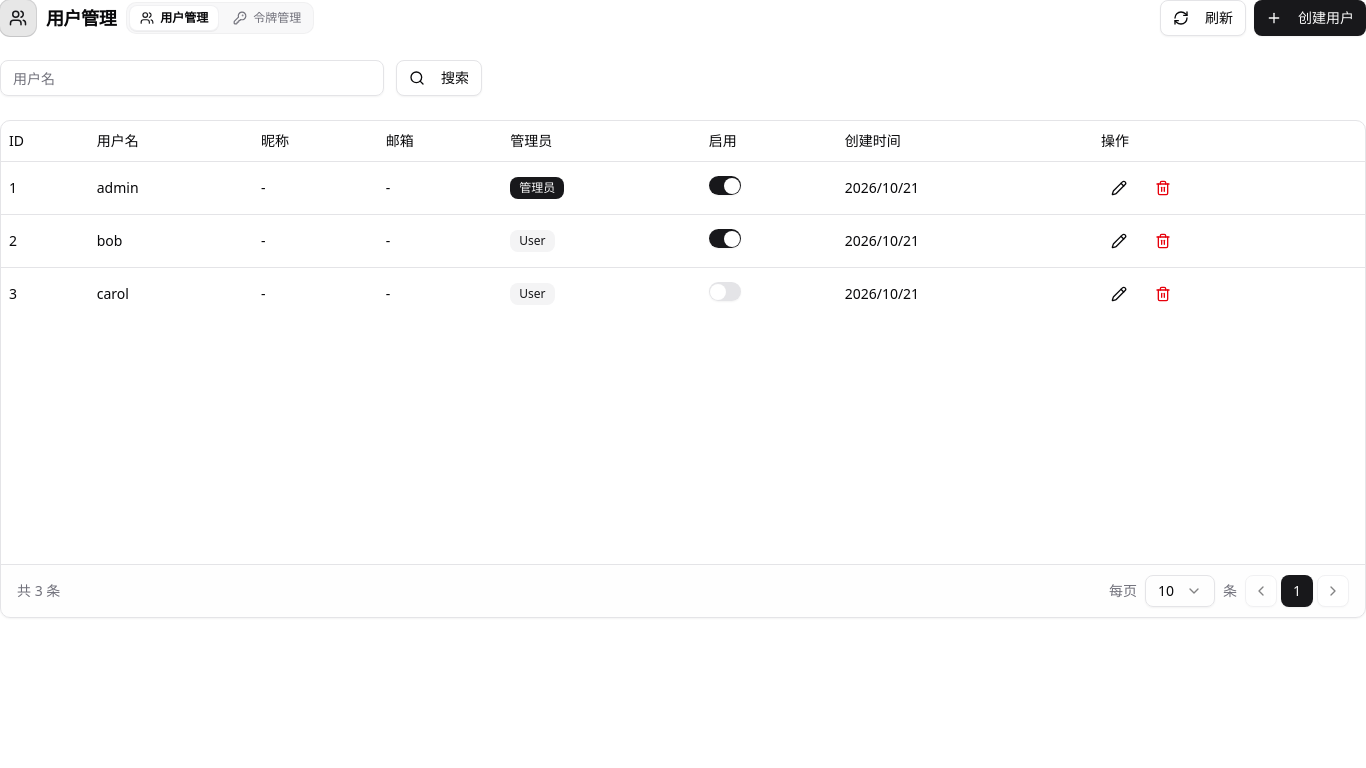
it: UserManagement status switch › 取消确认不提交
Click the switch named "启用 bob" at (725, 239), box [709,229,741,248]
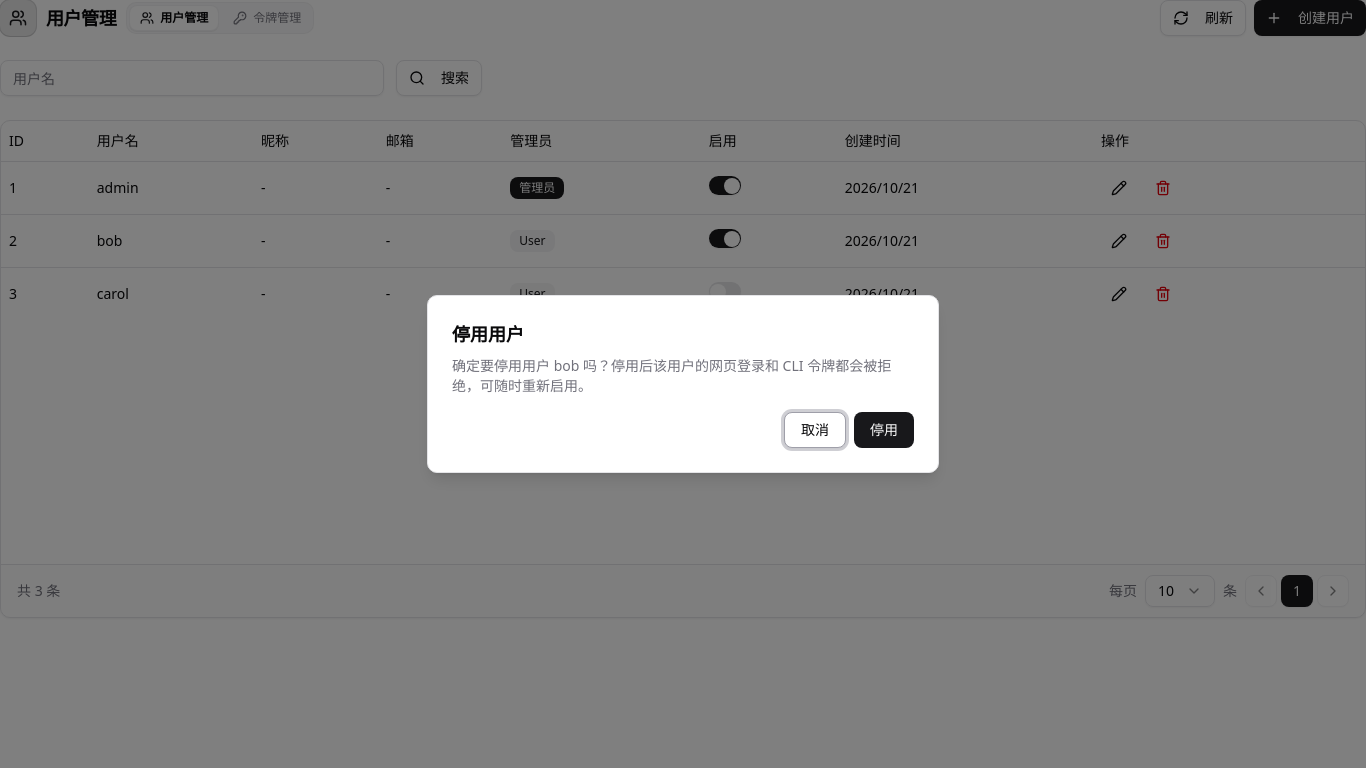
Click the button "取消" at (815, 430), box [784,412,846,448]
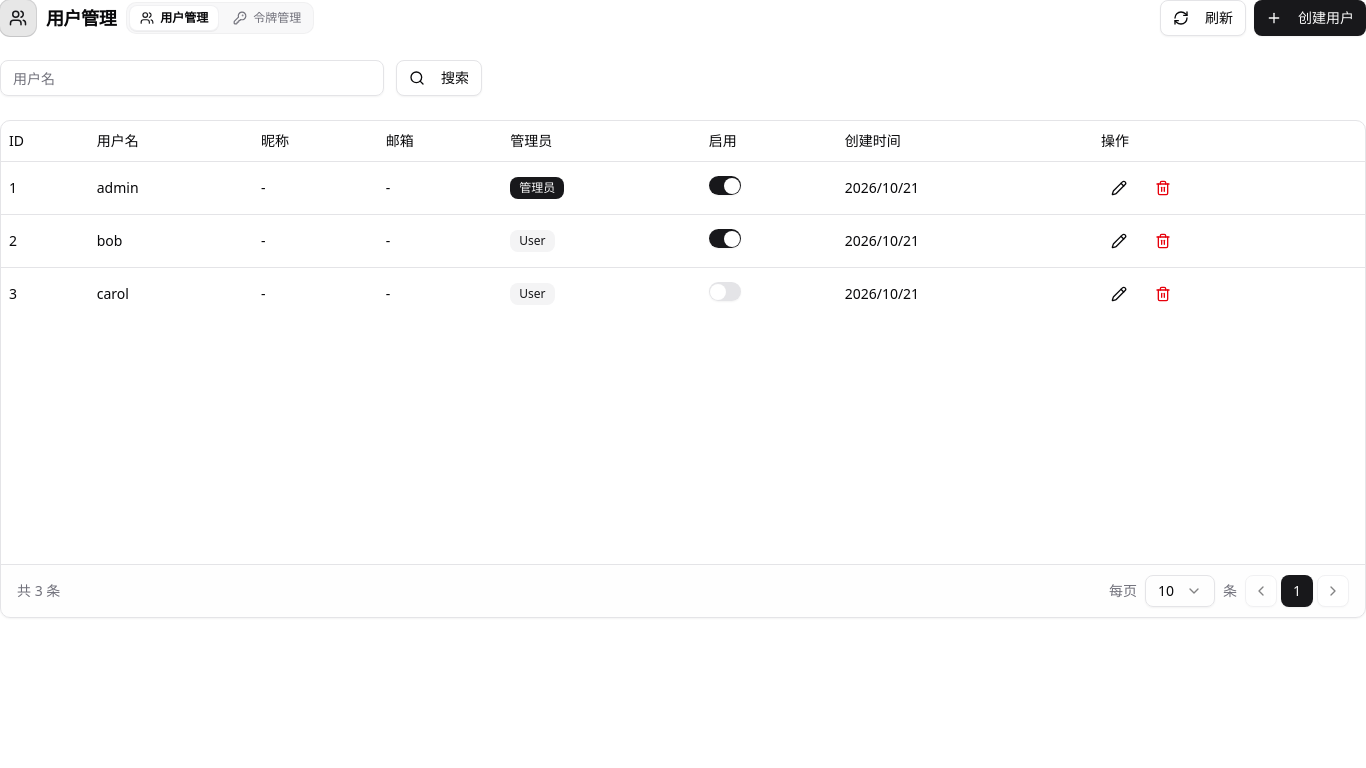
Check: the text "确定要停用用户 bob 吗" is gone
